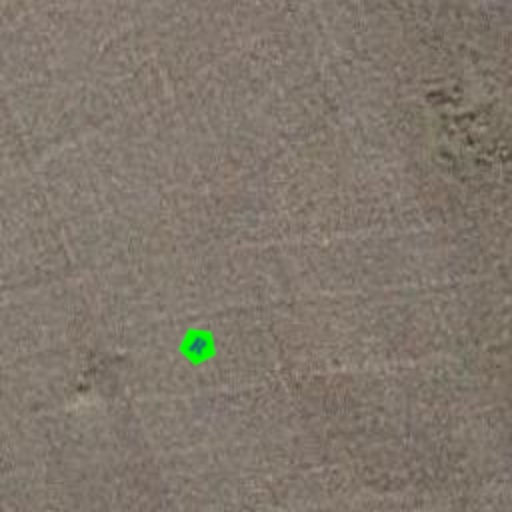pentagon: (170, 318, 226, 374)
